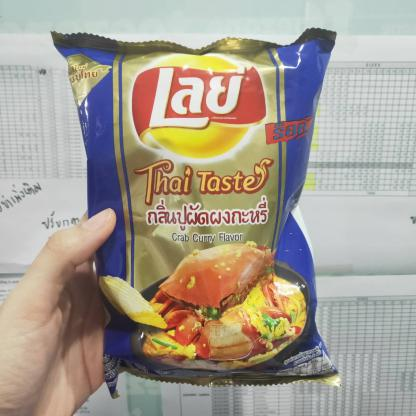potatochip: (47, 24, 350, 406)
